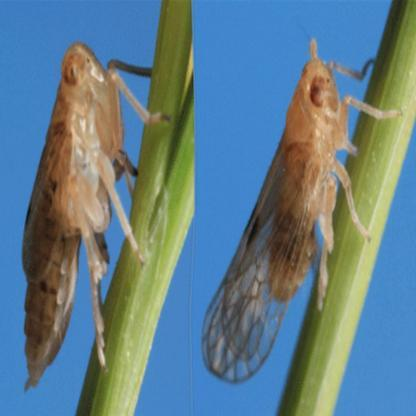brown-planthopper: (200, 41, 357, 386), (20, 35, 132, 388)
